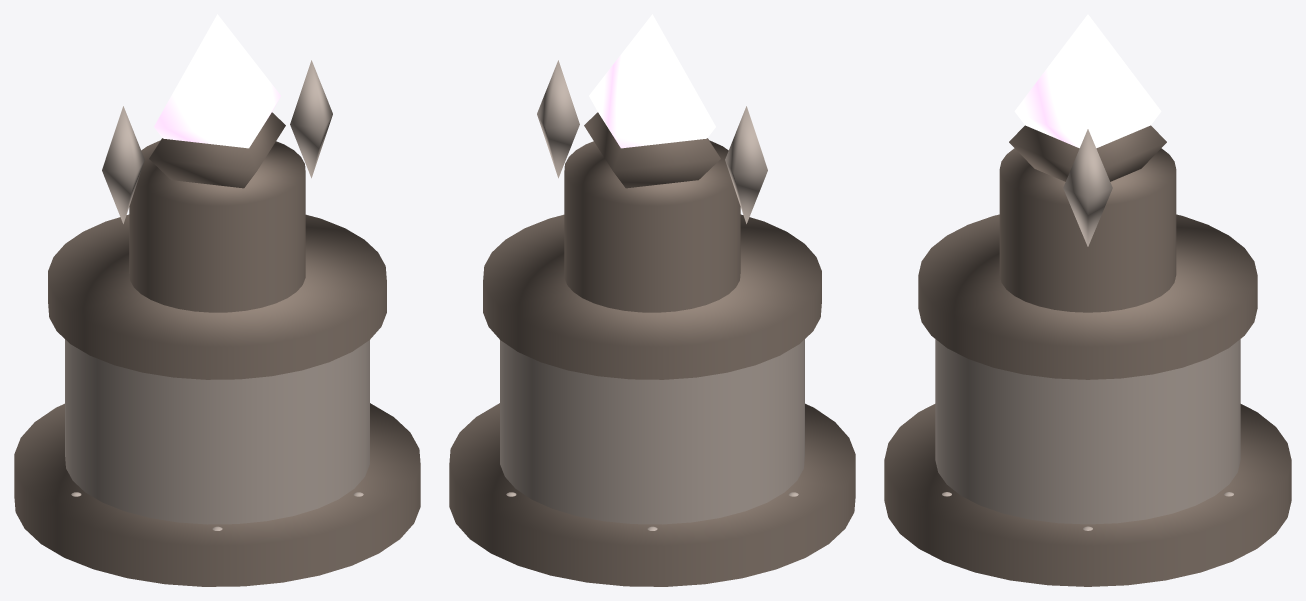
Rendered from arcane_l2.glb.
The picture shows the model from 3 angles, left to right: view 1: azimuth 30°, elevation 25°; view 2: azimuth 150°, elevation 25°; view 3: azimuth 270°, elevation 25°; orthographic projection.
Visible parts, largest first — view 1: base, footing, baseCollar, shaft, spinCrystal, support, shardR, shardL; view 2: base, footing, baseCollar, shaft, spinCrystal, support, shardR, shardL; view 3: base, footing, baseCollar, shaft, spinCrystal, support, shardR.
Boxes of the visible parts, x1,y1,x2,y2 form: base: (65, 339, 369, 524); footing: (14, 403, 420, 586); baseCollar: (48, 214, 386, 379); shaft: (129, 140, 305, 312); spinCrystal: (154, 14, 280, 148); support: (149, 112, 285, 188); shardR: (290, 60, 332, 178); shardL: (102, 106, 144, 223); base: (500, 339, 804, 524); footing: (449, 403, 855, 586); baseCollar: (483, 214, 821, 379); shaft: (564, 140, 740, 312); spinCrystal: (589, 14, 715, 148); support: (584, 112, 720, 188); shardR: (537, 60, 579, 178); shardL: (725, 106, 767, 223); base: (935, 339, 1240, 524); footing: (884, 404, 1291, 586); baseCollar: (918, 214, 1257, 379); shaft: (999, 148, 1176, 312); spinCrystal: (1014, 14, 1161, 148); support: (1009, 125, 1166, 181); shardR: (1063, 129, 1112, 246).
Bounding box in the file's own units: 1.8 × 2.38 × 1.8.
